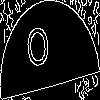O: (25, 25, 52, 77)
